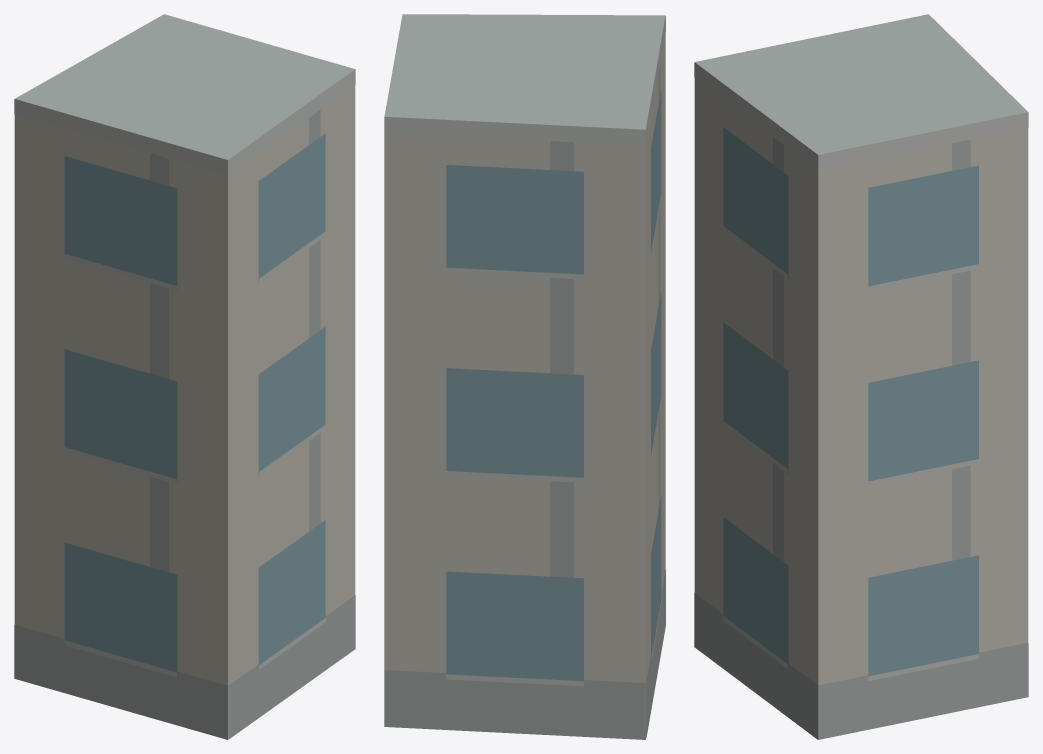
The model's file is survey-upis-32587347.glb.
3 views of the same model, side by side, from view 1: azimuth 30°, elevation 25°; view 2: azimuth 150°, elevation 25°; view 3: azimuth 270°, elevation 25° (orthographic). The views are drawn at different scales.
Parts seen in each view (by area): view 1: survey-upis-32587347.tmp; view 2: survey-upis-32587347.tmp; view 3: survey-upis-32587347.tmp.
Boxes of the visible parts, left/top/right/bottom form: survey-upis-32587347.tmp: left=14, top=14, right=355, bottom=739; survey-upis-32587347.tmp: left=384, top=14, right=665, bottom=739; survey-upis-32587347.tmp: left=694, top=14, right=1028, bottom=739.
Bounding box in the file's own units: 4.73 × 9.15 × 4.74.
